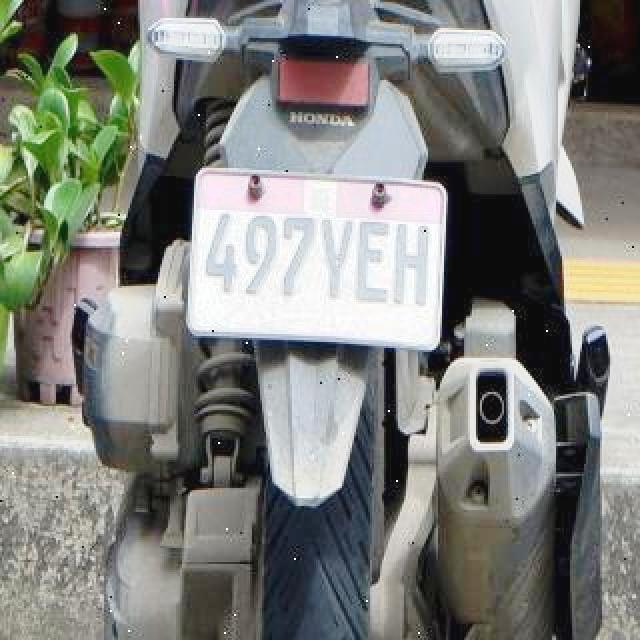license_plate: (189, 169, 449, 352)
